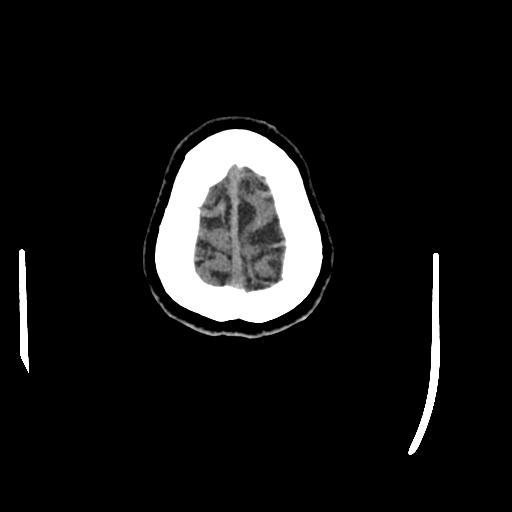Normal_Brain: (145, 119, 336, 343)
